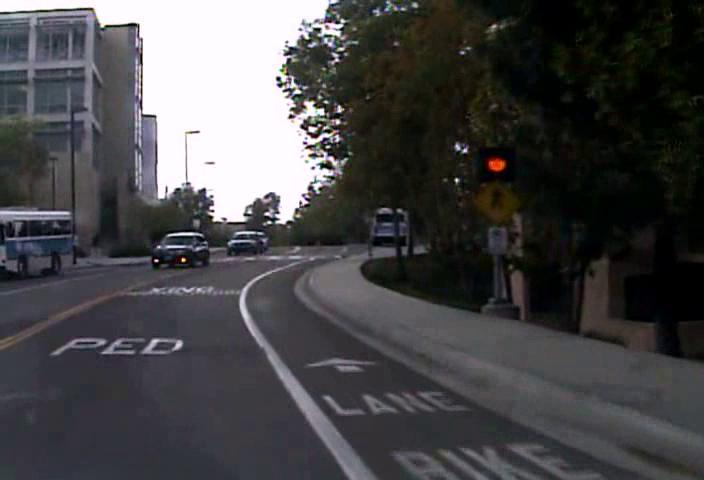pedestrianCrossing: (471, 177, 518, 224)
